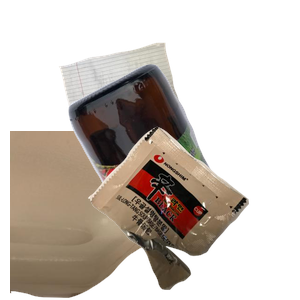glass: (66, 61, 300, 241)
paper: (56, 40, 229, 166)
plastic: (10, 131, 196, 300)
trash: (86, 124, 300, 300)
